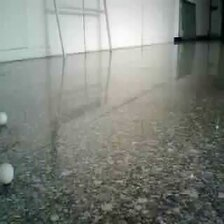tennis: (4, 130, 31, 170), (77, 81, 93, 103)
